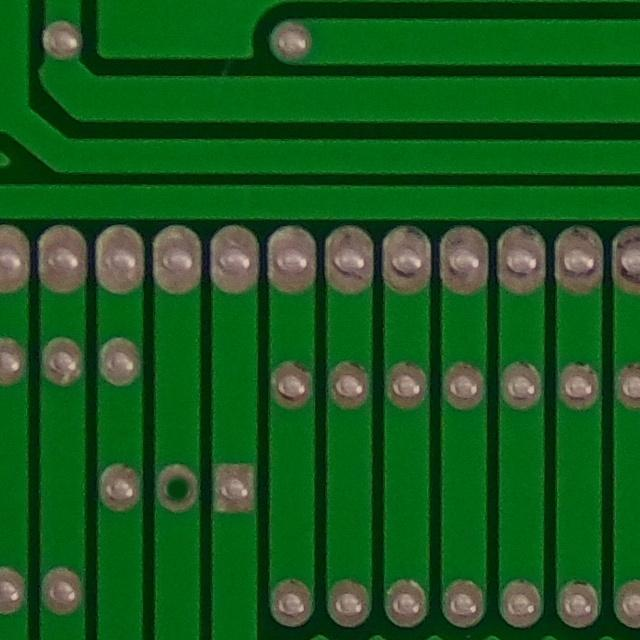missing_hole: (151, 457, 208, 519)
